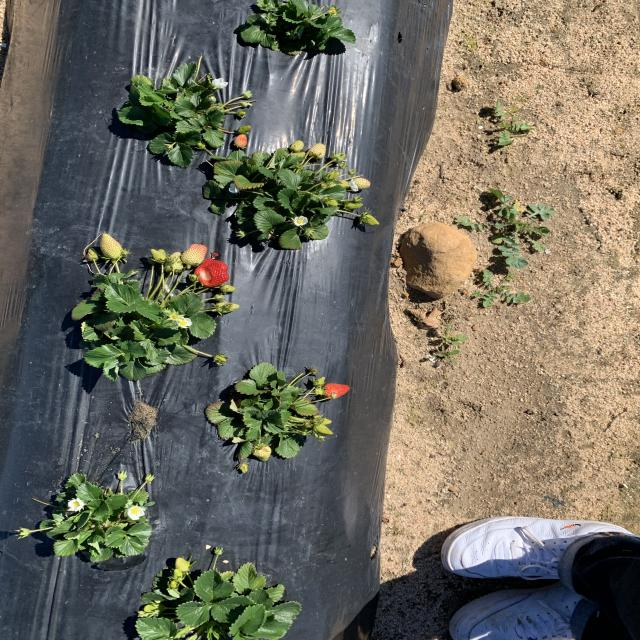unripe: (197, 259, 231, 286), (324, 383, 349, 397)
